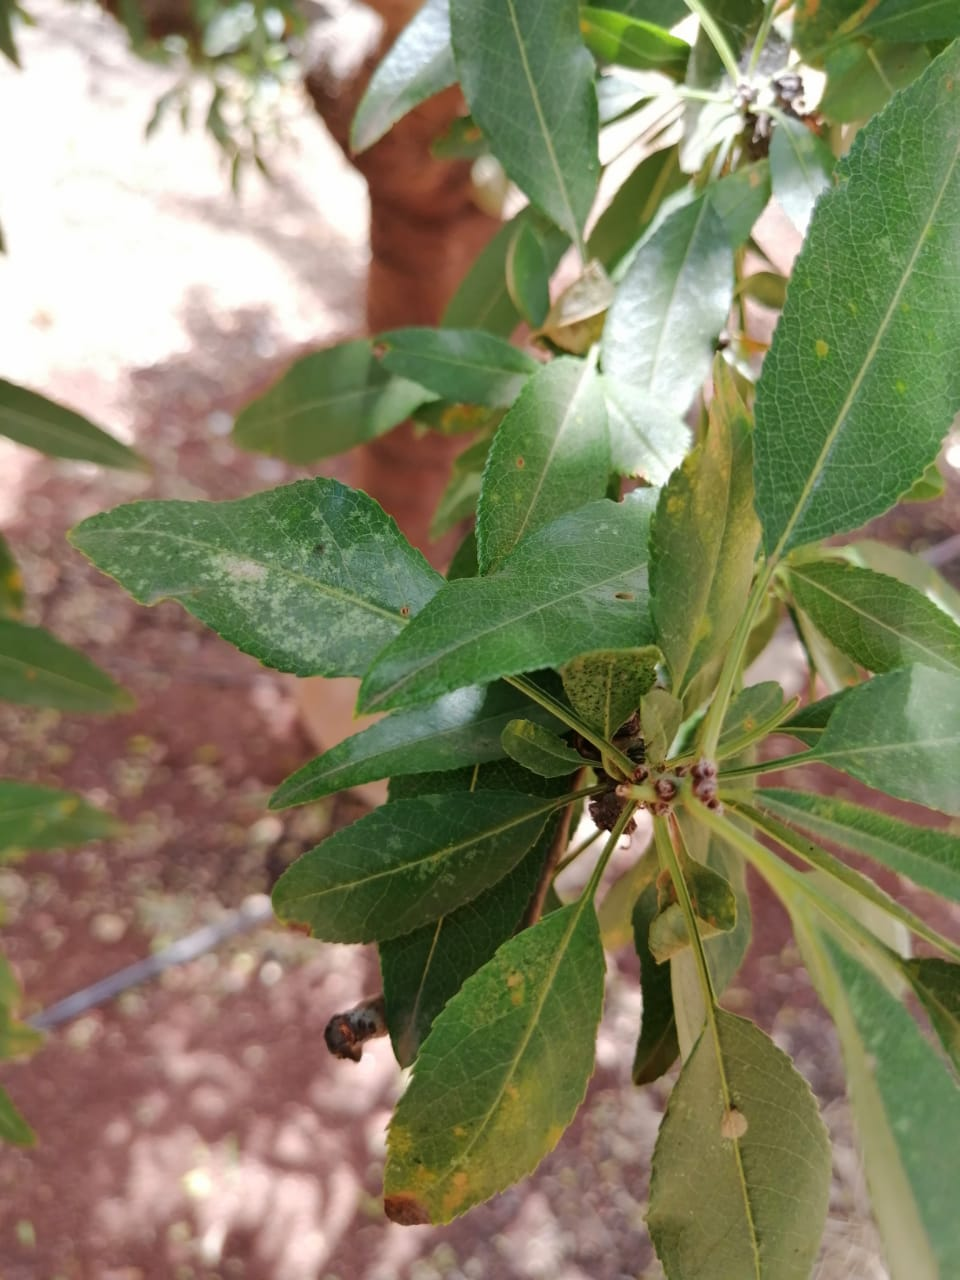faux tigre: (64, 476, 451, 679)
